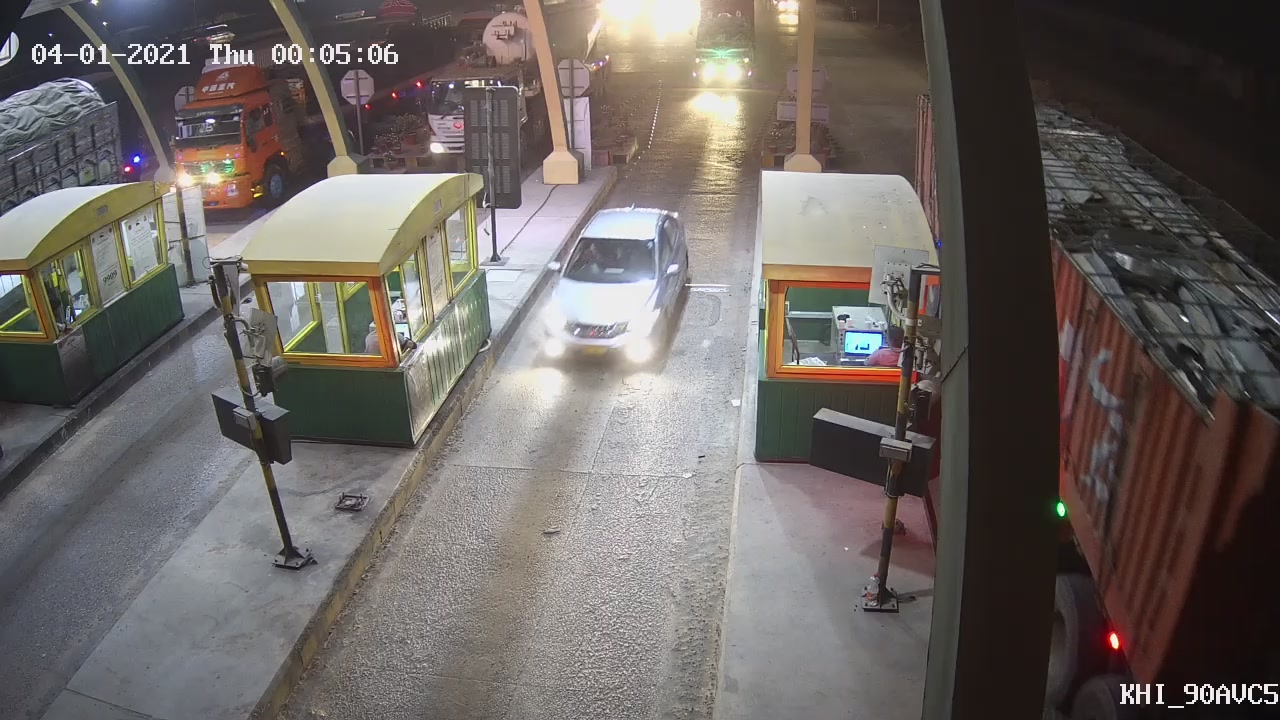F1: (525, 199, 695, 393)
